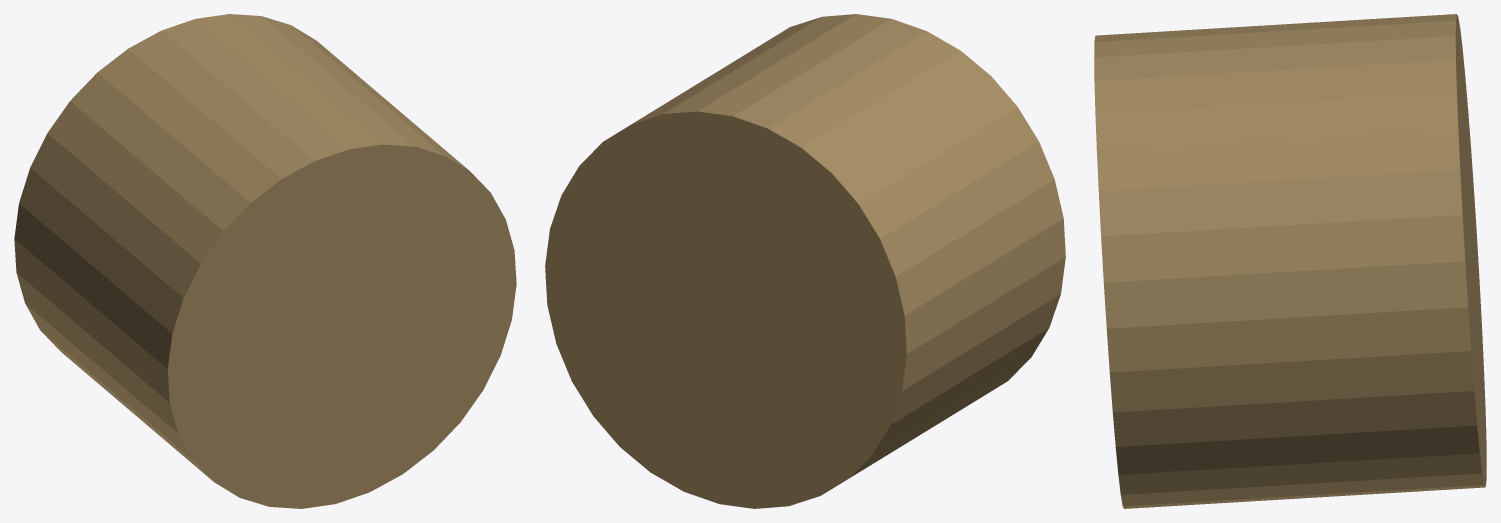
Rendered from Texture.225.dae.
3 renders of one model, left to right at view 1: azimuth 30°, elevation 25°; view 2: azimuth 150°, elevation 25°; view 3: azimuth 270°, elevation 25°, orthographic. The views are drawn at different scales.
Visible parts, largest first — view 1: tmp_export_Texture.225; view 2: tmp_export_Texture.225; view 3: tmp_export_Texture.225.
Boxes of the visible parts, x1,y1,x2,y2 form: tmp_export_Texture.225: (14,14,516,508); tmp_export_Texture.225: (545,14,1065,508); tmp_export_Texture.225: (1094,14,1486,508).
Size of the model in its own units: 0.0716 by 0.0592 by 0.075.
